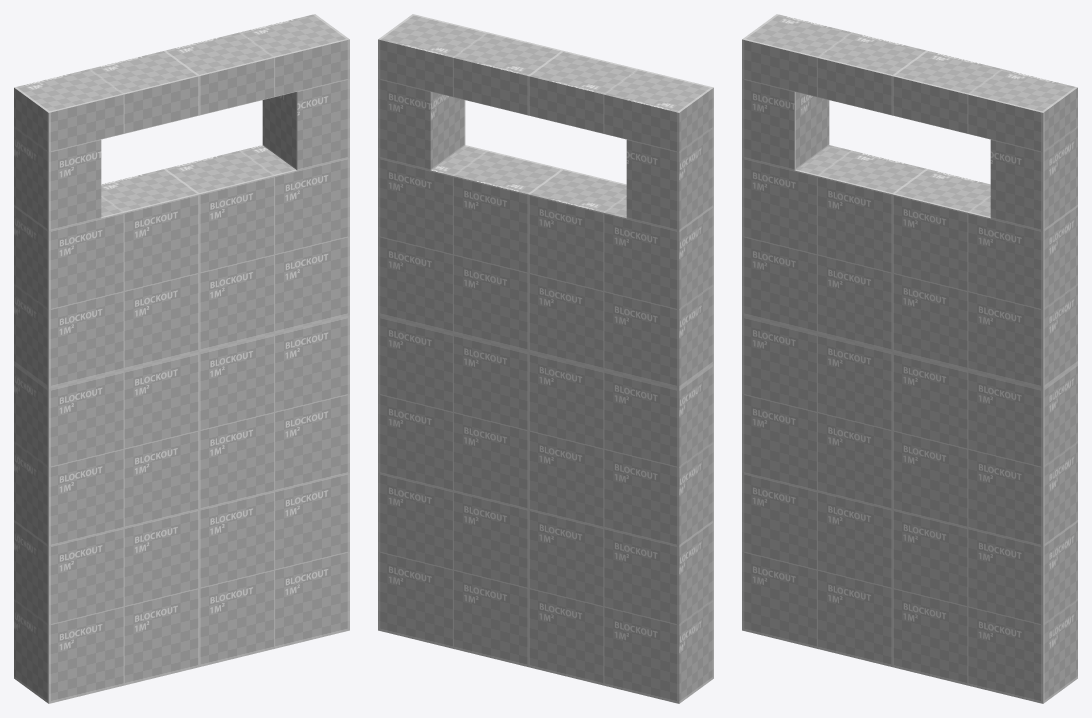
Rendered from BlockoutThickWall04WindowHigh.fbx.
3 views of the same model, side by side, from view 1: azimuth 30°, elevation 25°; view 2: azimuth 150°, elevation 25°; view 3: azimuth 330°, elevation 25° (orthographic).
Visible parts, largest first — view 1: BlockoutThickWall04WindowHigh; view 2: BlockoutThickWall04WindowHigh; view 3: BlockoutThickWall04WindowHigh.
Part boxes in pixels (x1=…): BlockoutThickWall04WindowHigh: x1=14, y1=14, x2=349, y2=703; BlockoutThickWall04WindowHigh: x1=378, y1=14, x2=713, y2=703; BlockoutThickWall04WindowHigh: x1=742, y1=14, x2=1077, y2=703.
Size of the model in its own units: 400 by 750 by 80.
